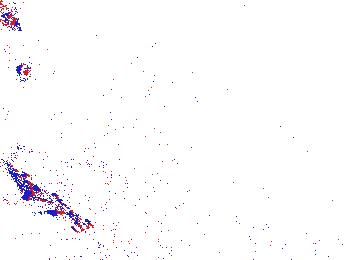glassfish: (83, 152, 186, 200)
redtail glassfish: (1, 1, 23, 34), (17, 56, 34, 85)
siberian prawn: (3, 168, 81, 231)
